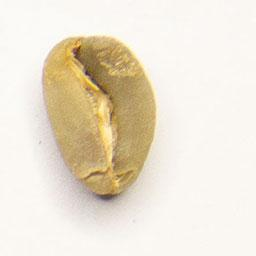longberry: (38, 31, 163, 200)
